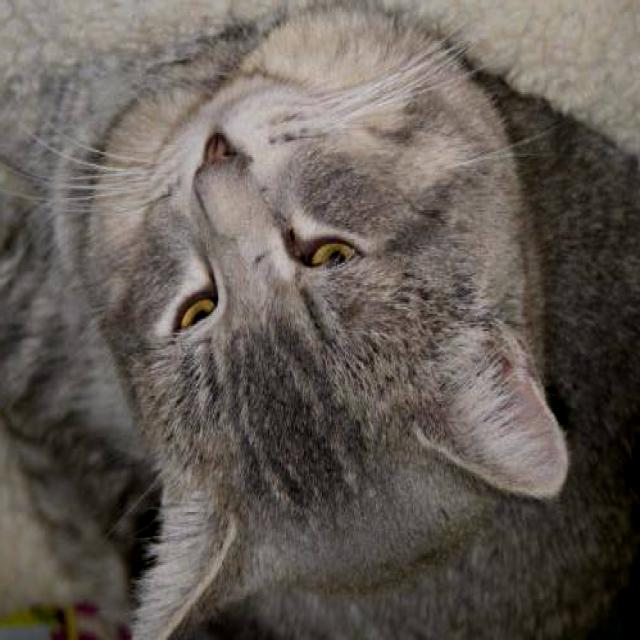Kucing: (66, 23, 597, 595)
